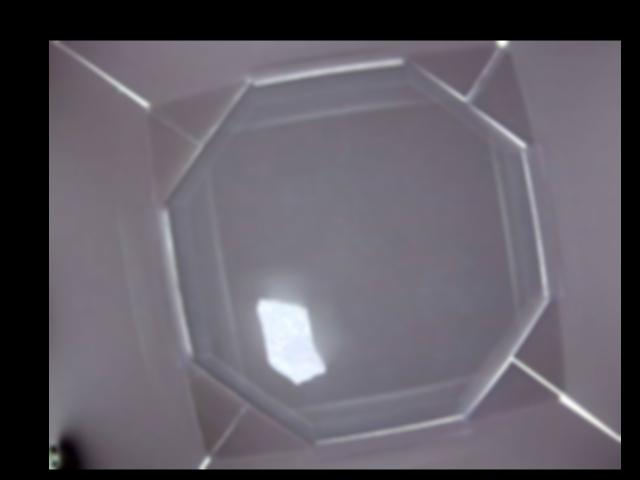China: (253, 298, 327, 382)
